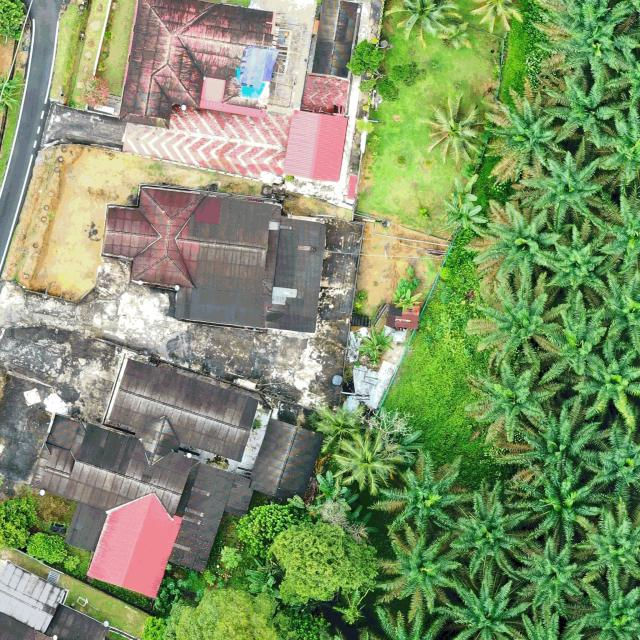Tree: (464, 268, 566, 372), (480, 75, 571, 186), (269, 515, 379, 605), (464, 197, 565, 291), (501, 404, 603, 496), (532, 0, 640, 86), (540, 60, 638, 153), (534, 216, 625, 316), (464, 358, 568, 444), (508, 464, 613, 549), (370, 459, 471, 535), (530, 143, 608, 241), (139, 586, 279, 640), (376, 524, 462, 610), (433, 567, 528, 640), (448, 492, 533, 572), (572, 335, 640, 435), (540, 292, 610, 387), (509, 526, 588, 610), (572, 494, 640, 582), (573, 418, 640, 504), (332, 429, 410, 495), (583, 101, 640, 186), (345, 39, 420, 103), (570, 572, 640, 640), (419, 94, 488, 162), (588, 266, 640, 356), (384, 0, 463, 51), (443, 173, 490, 234), (236, 501, 291, 549), (273, 604, 345, 640), (315, 403, 365, 454), (471, 0, 528, 34), (0, 497, 35, 550), (315, 470, 360, 511), (244, 555, 284, 599), (357, 326, 395, 367), (26, 530, 67, 564), (0, 70, 26, 114), (0, 0, 27, 42), (390, 288, 425, 312), (63, 554, 80, 571)
